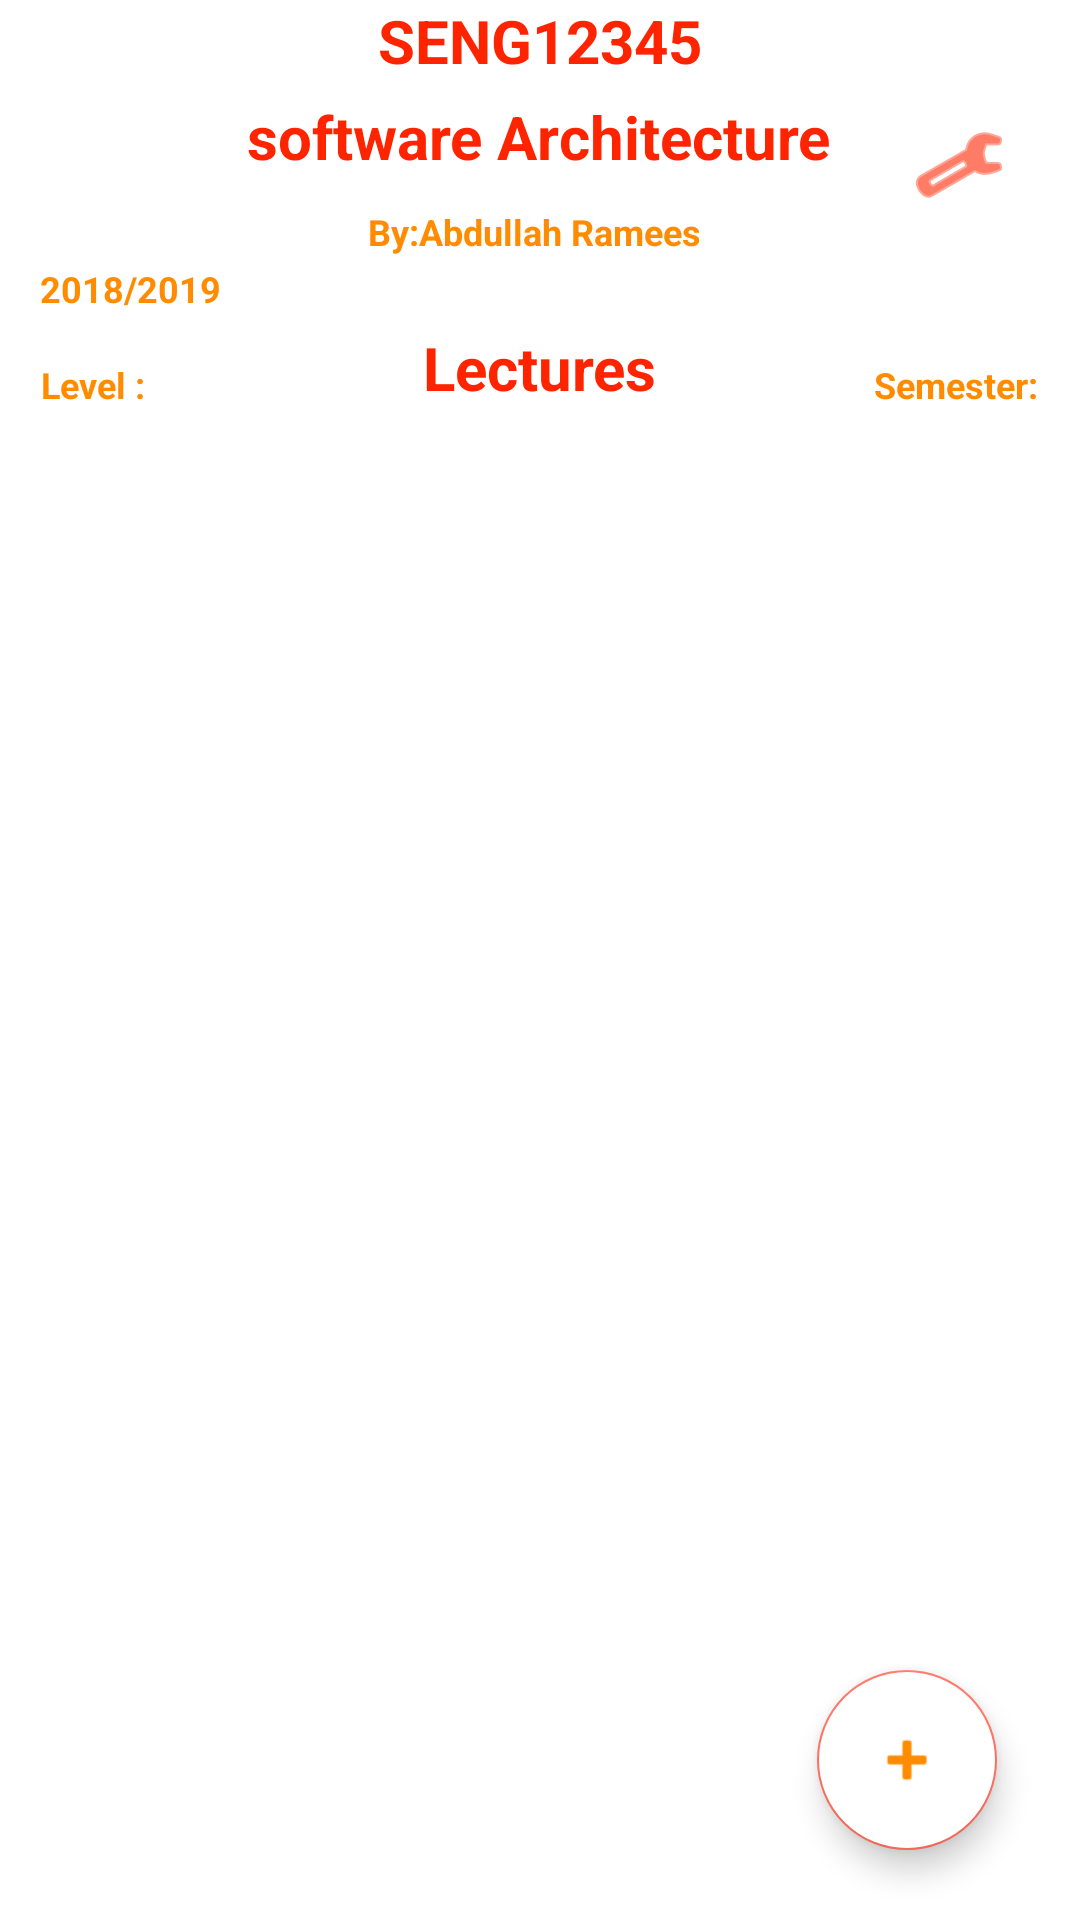

Named icons in this screenshot (1080 x 1920) and their centers, (x,y):
add: (907,1760)
